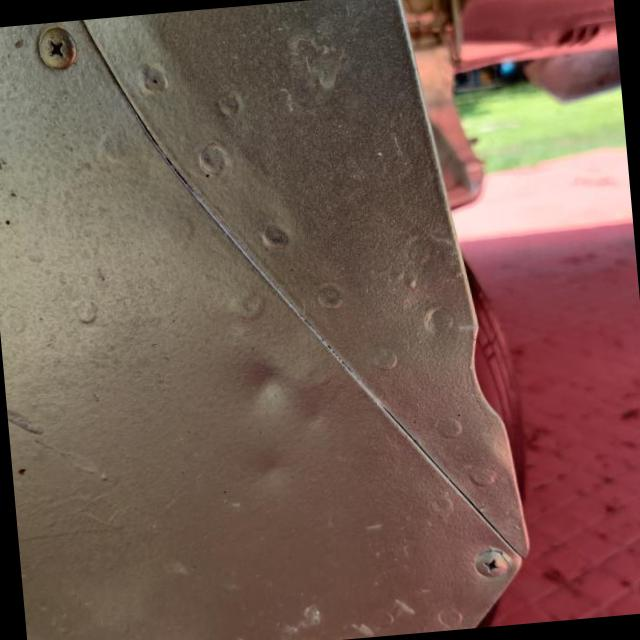Dent: (228, 316, 346, 461)
